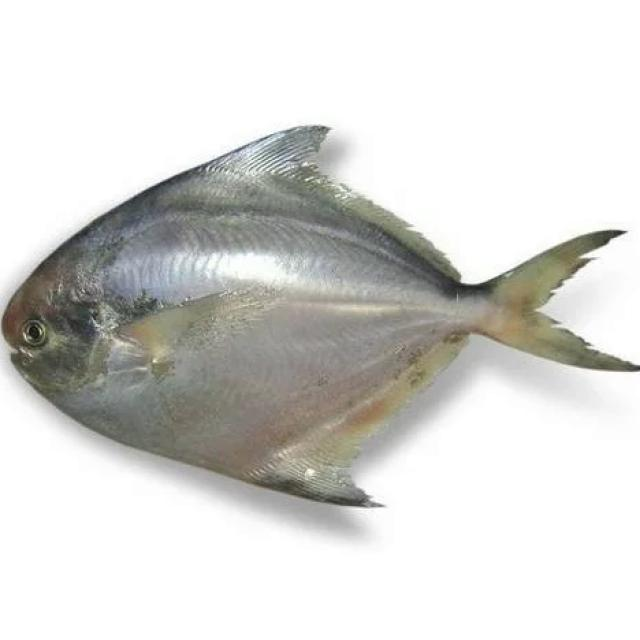pomfred: (1, 120, 640, 508)
